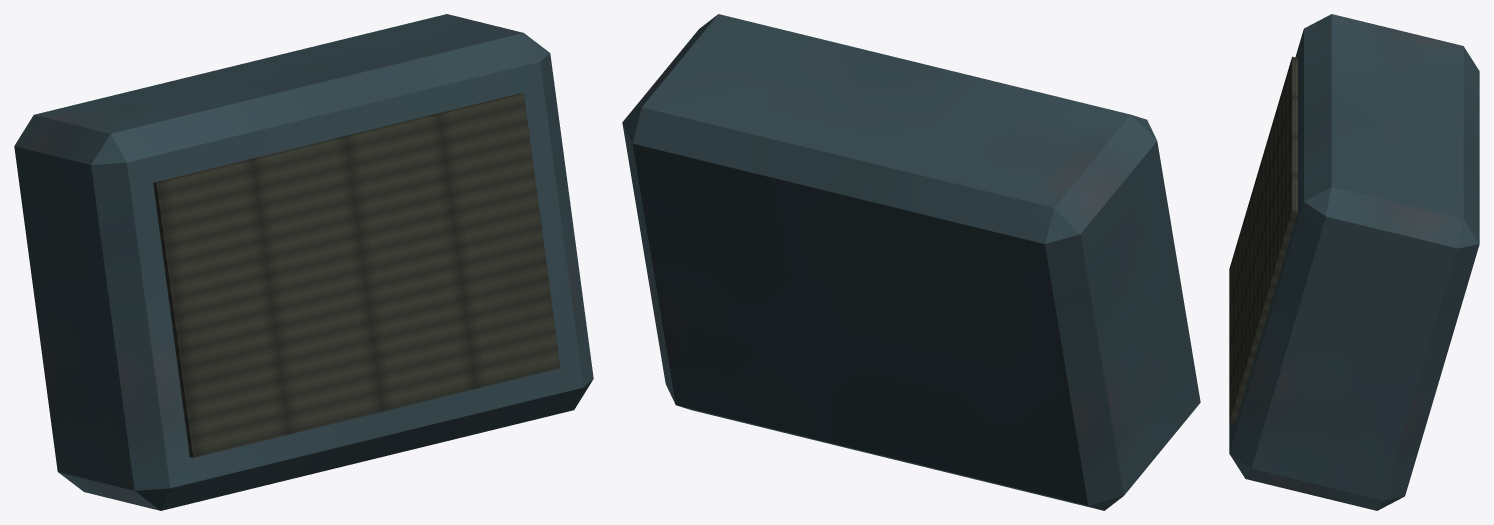
The model's file is speaker_prison.fbx.
3 renders of one model, left to right at view 1: azimuth 30°, elevation 25°; view 2: azimuth 150°, elevation 25°; view 3: azimuth 270°, elevation 25°, orthographic. The views are drawn at different scales.
Parts seen in each view (by area): view 1: speaker_prison; view 2: speaker_prison; view 3: speaker_prison.
Part boxes in pixels (box(x1,y1,x2,y2)): speaker_prison: box(14, 14, 593, 510); speaker_prison: box(622, 14, 1200, 510); speaker_prison: box(1229, 14, 1479, 510).
Bounding box in the file's own units: 0.3 × 0.2358 × 0.1651.
Materials: 1 (1 with a texture image).
